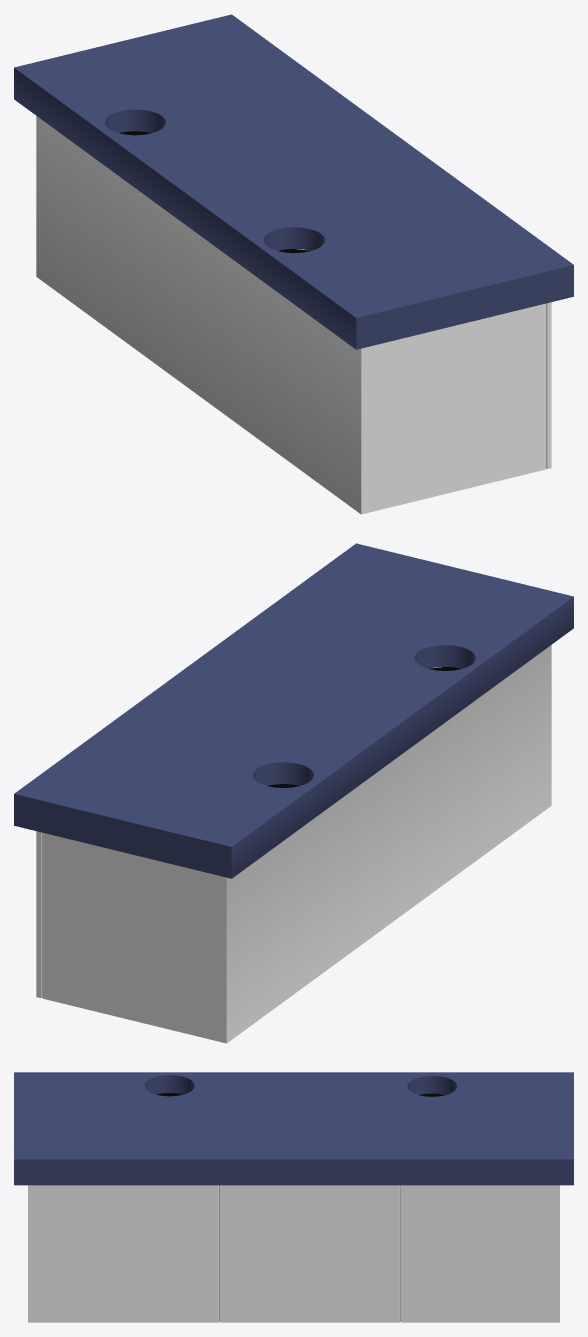
Rendered from counter.glb.
3 views of the same model, one above another, from view 1: azimuth 30°, elevation 25°; view 2: azimuth 150°, elevation 25°; view 3: azimuth 270°, elevation 25° (orthographic). The views are drawn at different scales.
Parts seen in each view (by area): view 1: pCube2; view 2: pCube2; view 3: pCube2.
Part boxes in pixels (<box>): pCube2: <box>14,14,573,514</box>; pCube2: <box>14,543,573,1043</box>; pCube2: <box>14,1072,573,1322</box>.
Size of the model in its own units: 0.2162 by 0.1956 by 0.5885.
